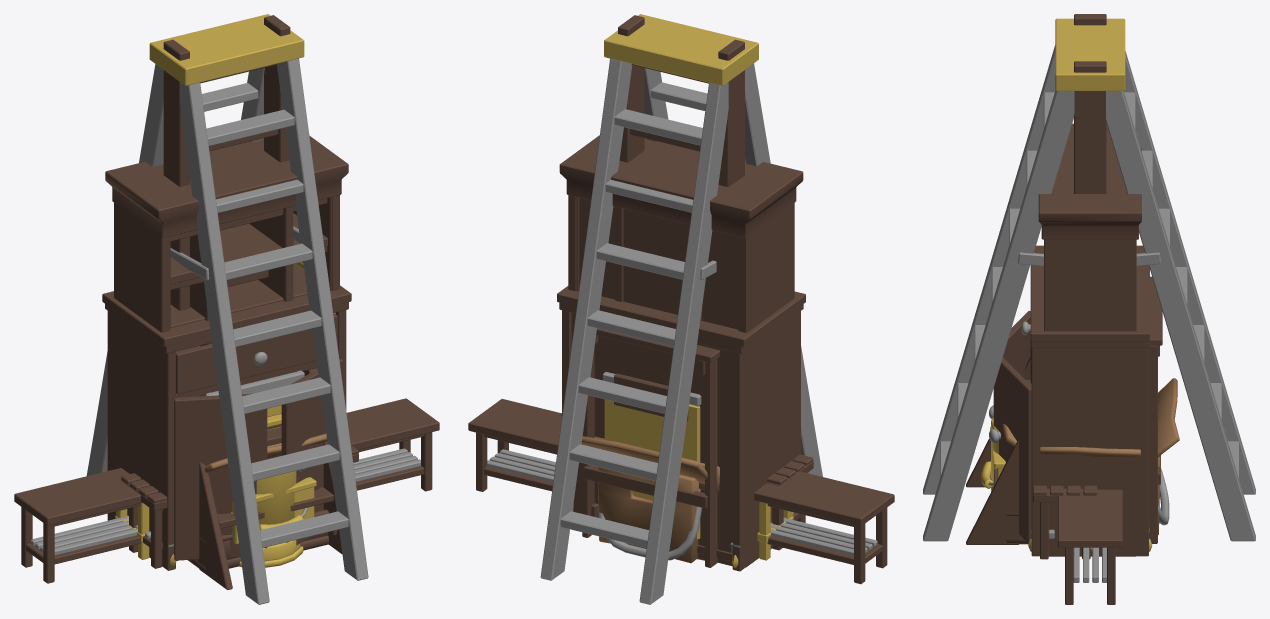
Rendered from PlaceholderAssets_ShelfLadderBoxBucket.fbx.
3 views of the same model, side by side, from view 1: azimuth 30°, elevation 25°; view 2: azimuth 150°, elevation 25°; view 3: azimuth 270°, elevation 25° (orthographic). The views are drawn at different scales.
Visible parts, largest first — view 1: Placeholder_Ladder_02, Placeholder_Shelf_03, Placeholder_Shelf_04, Placeholder_BenchShoeRack_02.001, Placeholder_Ladder_01, Placeholder_Ladder_03, Placeholder_Shelf_01, Placeholder_PaintBucket_02, Placeholder_WheeledDrawer, Placeholder_BenchShoeRack_02, Placeholder_Shelf_02, Placeholder_Suitcase (+2 smaller); view 2: Placeholder_Ladder_02, Placeholder_Shelf_03, Placeholder_Shelf_04, Placeholder_BenchShoeRack_02.001, Placeholder_Ladder_03, Placeholder_Ladder_01, Placeholder_Box_02, Placeholder_WheeledDrawer, Placeholder_Shelf_01, Placeholder_Box_05, Placeholder_BenchShoeRack_02.002, Placeholder_Ladder_04 (+1 smaller); view 3: Placeholder_Ladder_02, Placeholder_Shelf_04, Placeholder_Shelf_03, Placeholder_Ladder_03, Placeholder_BenchShoeRack_02.001, Placeholder_Ladder_01, Placeholder_Box_05, Placeholder_BenchShoeRack_02, Placeholder_BenchShoeRack_02.002, Placeholder_PaintBucket_02.
Part boxes in pixels (bbox=[...]): Placeholder_Ladder_02: bbox=[86, 14, 368, 604]; Placeholder_Shelf_03: bbox=[105, 135, 348, 558]; Placeholder_Shelf_04: bbox=[102, 285, 351, 570]; Placeholder_BenchShoeRack_02.001: bbox=[14, 398, 439, 583]; Placeholder_Ladder_01: bbox=[163, 15, 290, 310]; Placeholder_Ladder_03: bbox=[197, 368, 342, 589]; Placeholder_Shelf_01: bbox=[190, 206, 293, 345]; Placeholder_PaintBucket_02: bbox=[231, 471, 308, 567]; Placeholder_WheeledDrawer: bbox=[202, 370, 316, 544]; Placeholder_BenchShoeRack_02: bbox=[121, 445, 358, 568]; Placeholder_Shelf_02: bbox=[169, 197, 331, 330]; Placeholder_Suitcase: bbox=[188, 509, 328, 572]; Placeholder_Ladder_02: bbox=[540, 14, 822, 604]; Placeholder_Shelf_03: bbox=[559, 135, 803, 566]; Placeholder_Shelf_04: bbox=[557, 286, 805, 571]; Placeholder_BenchShoeRack_02.001: bbox=[468, 399, 894, 584]; Placeholder_Ladder_03: bbox=[582, 328, 719, 567]; Placeholder_Ladder_01: bbox=[618, 15, 744, 186]; Placeholder_Box_02: bbox=[598, 467, 698, 563]; Placeholder_WheeledDrawer: bbox=[603, 372, 701, 539]; Placeholder_Shelf_01: bbox=[614, 206, 702, 421]; Placeholder_Box_05: bbox=[561, 413, 707, 484]; Placeholder_BenchShoeRack_02.002: bbox=[767, 454, 813, 547]; Placeholder_Ladder_04: bbox=[598, 491, 701, 560]; Placeholder_Ladder_02: bbox=[923, 18, 1255, 541]; Placeholder_Shelf_04: bbox=[989, 245, 1149, 556]; Placeholder_Shelf_03: bbox=[1038, 123, 1141, 556]; Placeholder_Ladder_03: bbox=[966, 276, 1162, 544]; Placeholder_BenchShoeRack_02.001: bbox=[1058, 489, 1122, 604]; Placeholder_Ladder_01: bbox=[1074, 14, 1106, 193]; Placeholder_Box_05: bbox=[1002, 378, 1179, 457]; Placeholder_BenchShoeRack_02: bbox=[1033, 485, 1096, 559]; Placeholder_BenchShoeRack_02.002: bbox=[1033, 485, 1097, 559]; Placeholder_PaintBucket_02: bbox=[981, 416, 1092, 551].
Bounding box in the file's own units: 324 × 392 × 247.
